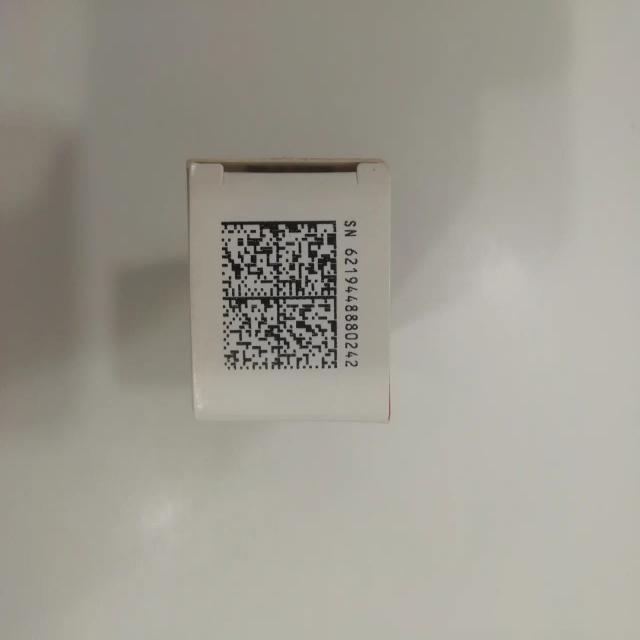datamatrix: (220, 220, 341, 372)
